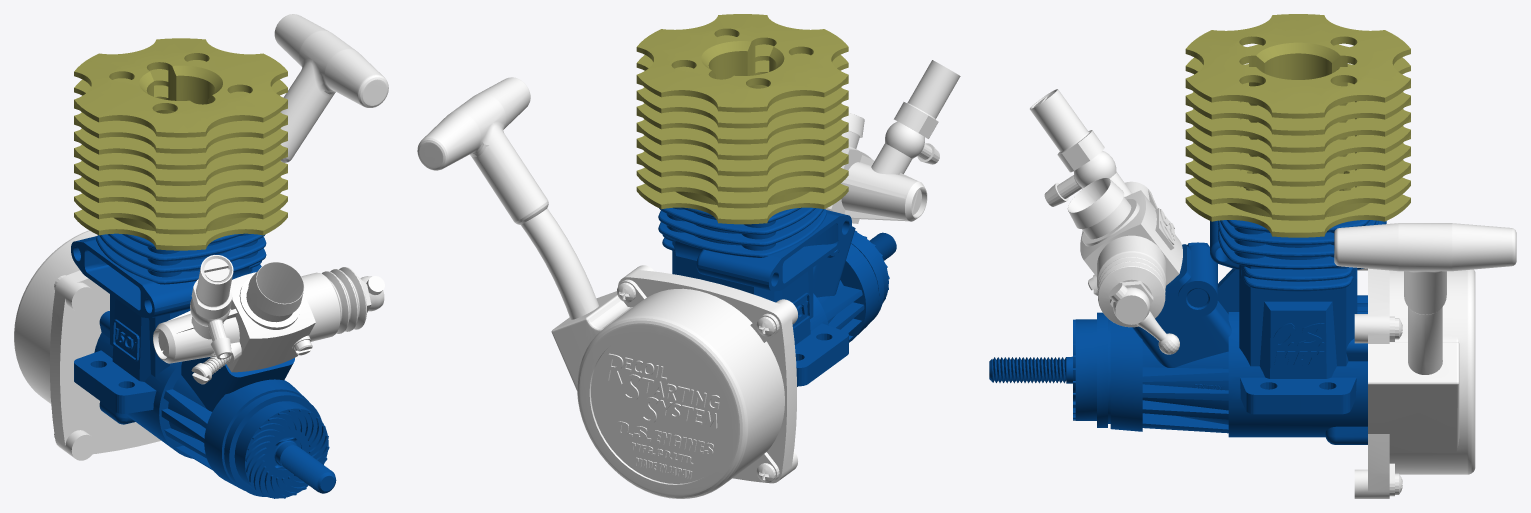
File: 8791_RC_OS_15CV_Max_Model_Engine.fbx
3 views of the same model, side by side, from view 1: azimuth 30°, elevation 25°; view 2: azimuth 150°, elevation 25°; view 3: azimuth 270°, elevation 25° (orthographic). The views are drawn at different scales.
Visible parts, largest first — view 1: Layer_heat, Layer_body, Layer_star, Layer_carb; view 2: Layer_star, Layer_heat, Layer_body, Layer_carb; view 3: Layer_body, Layer_heat, Layer_star, Layer_carb.
Part boxes in pixels (x1,y1,x2,y2): Layer_heat: [74, 38, 287, 250]; Layer_body: [71, 233, 336, 498]; Layer_star: [14, 14, 388, 460]; Layer_carb: [153, 255, 384, 384]; Layer_star: [417, 77, 797, 498]; Layer_heat: [636, 14, 848, 224]; Layer_body: [658, 207, 896, 386]; Layer_carb: [825, 60, 960, 223]; Layer_body: [989, 220, 1386, 444]; Layer_heat: [1185, 14, 1410, 237]; Layer_star: [1334, 223, 1516, 498]; Layer_carb: [1030, 89, 1182, 354].
Size of the model in its own units: 190 by 212 by 250.
